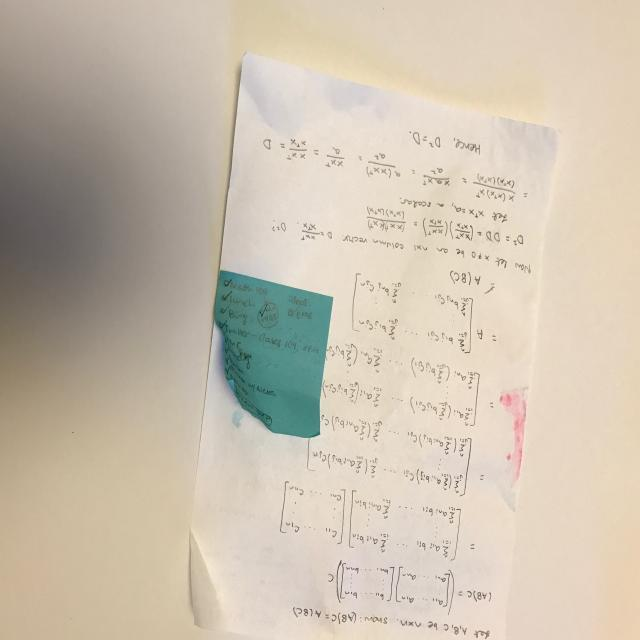paper: (184, 50, 560, 640)
